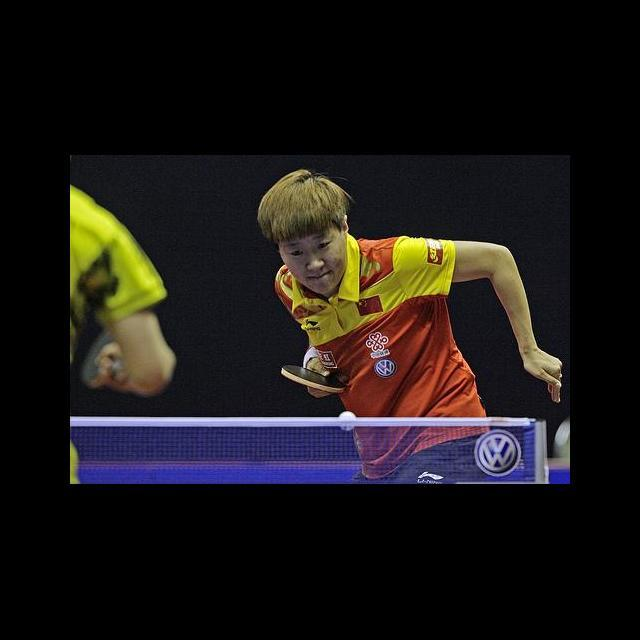ping-pong-ball: (338, 411, 357, 433)
